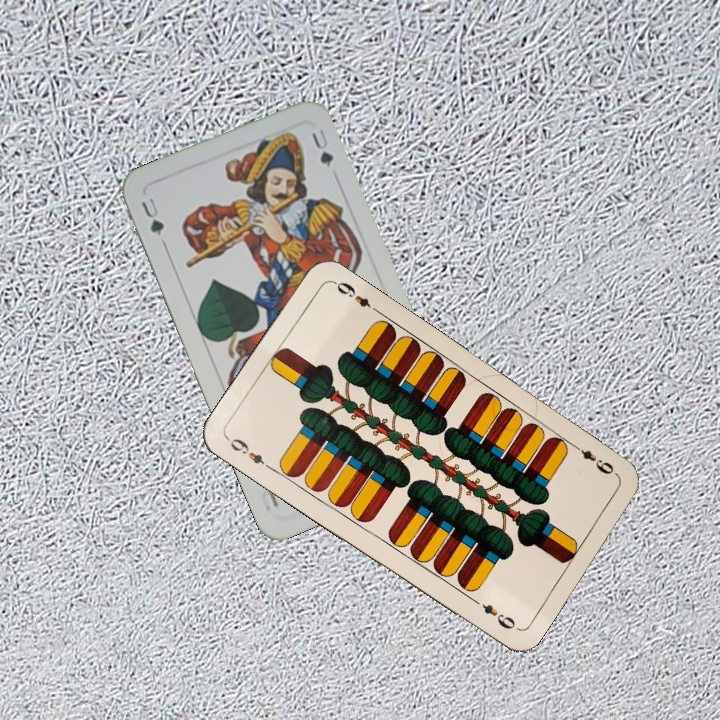E9: (223, 433, 275, 473), (568, 440, 621, 479)
GU: (136, 193, 167, 239)
